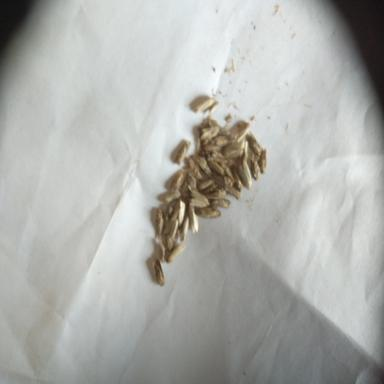pbw: (208, 115, 231, 138), (174, 139, 191, 166), (204, 134, 229, 152), (194, 154, 212, 178), (187, 189, 211, 207), (170, 168, 186, 194), (241, 156, 253, 190), (153, 257, 167, 286), (199, 126, 219, 146), (187, 200, 198, 234), (164, 212, 178, 238), (167, 242, 185, 262), (196, 205, 221, 219), (234, 121, 250, 142), (248, 132, 261, 156), (154, 207, 164, 238), (249, 153, 260, 181), (199, 98, 216, 116), (221, 163, 236, 183), (223, 142, 244, 156), (209, 160, 226, 177), (225, 183, 241, 200), (212, 197, 231, 210), (207, 187, 226, 200), (177, 200, 186, 227), (232, 170, 243, 192), (259, 148, 268, 174), (163, 190, 181, 202), (197, 178, 214, 190)
